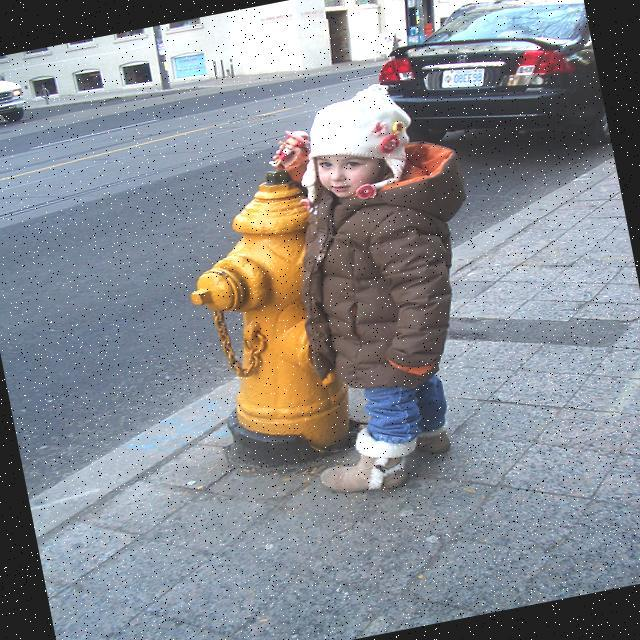fire_hydrant: (164, 128, 370, 474)
